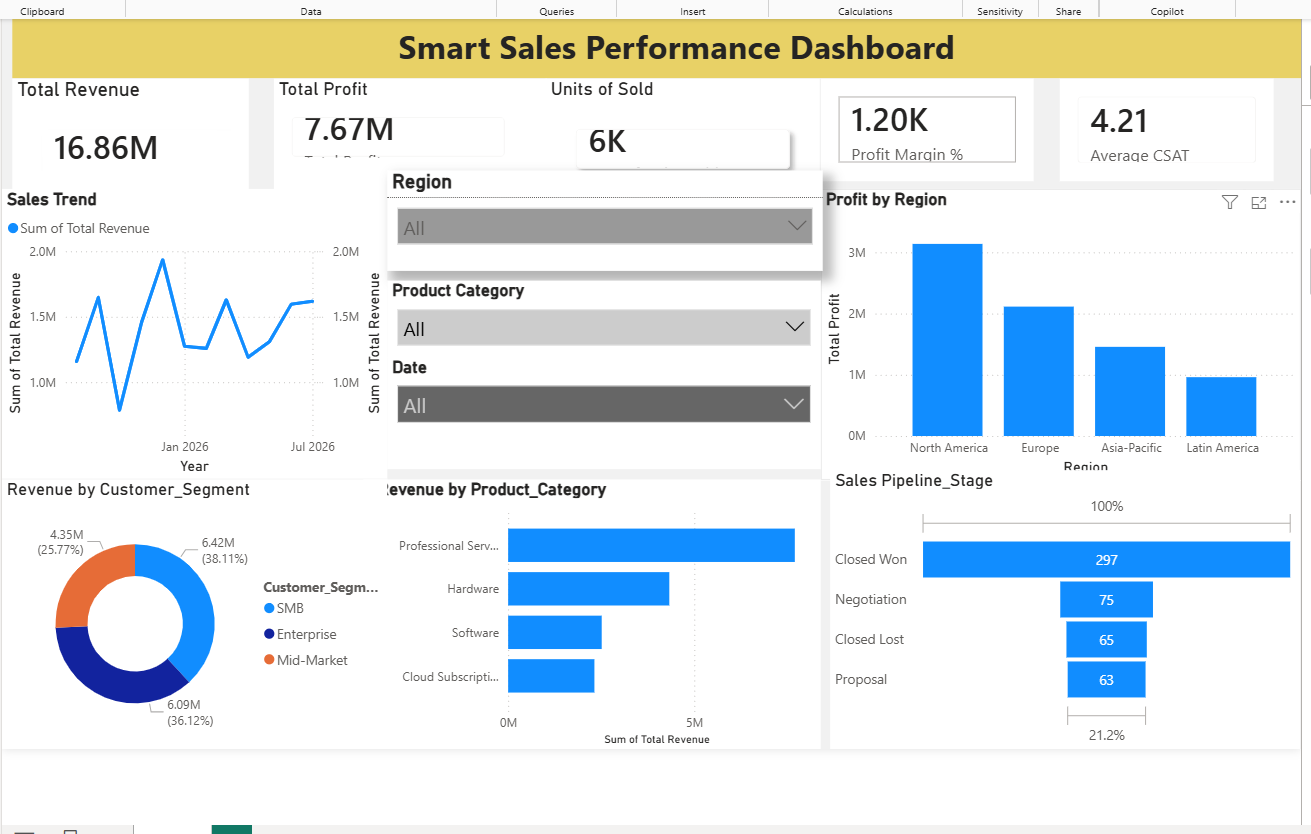

This screenshot's page, from the dashboard's own definition file:
{"tool":"powerbi","page":{"name":"Page 1","canvas":[1280,720],"ordinal":0},"visuals":[{"type":"textbox","title":"Smart Sales Performance Dashboard","box":[10.2,0,1269.6,58.4],"z":0},{"type":"cardVisual","title":"Total Revenue","fields":{"Data":["Sum(smart_sales_performance_dataset (1).Total Revenue)"]},"box":[10.1,58.9,233.4,108.6],"z":1000},{"type":"cardVisual","title":"Total Profit","fields":{"Data":["smart_sales_performance_dataset (1).Total Profit"]},"box":[267.9,58.9,269,117.7],"z":2000},{"type":"cardVisual","title":"Units of Sold","fields":{"Data":["Sum(smart_sales_performance_dataset (1).Units_Sold)"]},"box":[535.9,58.9,270,117.7],"z":3000},{"type":"cardVisual","fields":{"Data":["smart_sales_performance_dataset (1).Profit Margin %"]},"box":[806.5,58.4,209.2,101],"z":4000},{"type":"cardVisual","fields":{"Data":["smart_sales_performance_dataset (1).Average CSAT"]},"box":[1042.6,58.4,210.5,101],"z":5000},{"type":"lineChart","title":"Sales Trend","fields":{"Category":["smart_sales_performance_dataset (1).Date.Variation.Date Hierarchy.Year","smart_sales_performance_dataset (1).Date.Variation.Date Hierarchy.Month"],"Y":["Sum(smart_sales_performance_dataset (1).Total Revenue)"],"Y2":["Sum(smart_sales_performance_dataset (1).Total Revenue)"]},"box":[0,167.9,379.6,285.9],"z":6000},{"type":"barChart","title":"l Revenue by Product_Category","fields":{"Category":["smart_sales_performance_dataset (1).Product_Category"],"Y":["Sum(smart_sales_performance_dataset (1).Total Revenue)"]},"box":[356.4,453.8,450.1,266.4],"z":7000},{"type":"clusteredColumnChart","title":" Profit by Region","fields":{"Category":["smart_sales_performance_dataset (1).Region"],"Y":["smart_sales_performance_dataset (1).Total Profit"]},"box":[806.5,167.9,473.2,287.1],"z":8000},{"type":"donutChart","title":"Revenue by Customer_Segment","fields":{"Category":["smart_sales_performance_dataset (1).Customer_Segment"],"Y":["Sum(smart_sales_performance_dataset (1).Total Revenue)"]},"box":[0,453.8,379.6,266.4],"z":9000},{"type":"funnel","title":"Sales Pipeline_Stage","fields":{"Category":["smart_sales_performance_dataset (1).Pipeline_Stage"],"Y":["CountNonNull(smart_sales_performance_dataset (1).Order_ID)"]},"box":[816.3,444,463.5,276.1],"z":10000},{"type":"slicer","title":"Region","fields":{"Values":["smart_sales_performance_dataset (1).Region"]},"box":[379.6,149.2,429.3,99.5],"z":11000},{"type":"slicer","title":"Product Category","fields":{"Values":["smart_sales_performance_dataset (1).Product_Category"]},"box":[379.6,257.9,427,75.4],"z":12000},{"type":"slicer","title":"Date","fields":{"Values":["smart_sales_performance_dataset (1).Date"]},"box":[379.6,333.3,427,110.7],"z":13000}]}

Visuals, with their boxes on the page's 1280x720 design canvas (x1, y1, x2, y2). These are canvas units, not pixel positions in the 1311x834 screenshot, which may show the page scaled, cropped or inside an application window:
"Smart Sales Performance Dashboard" textbox: detection(10, 0, 1280, 58)
"Total Revenue" cardVisual: detection(10, 59, 244, 168)
"Total Profit" cardVisual: detection(268, 59, 537, 177)
"Units of Sold" cardVisual: detection(536, 59, 806, 177)
cardVisual - smart_sales_performance_dataset (1).Profit Margin %: detection(806, 58, 1016, 159)
cardVisual - smart_sales_performance_dataset (1).Average CSAT: detection(1043, 58, 1253, 159)
"Sales Trend" lineChart: detection(0, 168, 380, 454)
"l Revenue by Product_Category" barChart: detection(356, 454, 806, 720)
" Profit by Region" clusteredColumnChart: detection(806, 168, 1280, 455)
"Revenue by Customer_Segment" donutChart: detection(0, 454, 380, 720)
"Sales Pipeline_Stage" funnel: detection(816, 444, 1280, 720)
"Region" slicer: detection(380, 149, 809, 249)
"Product Category" slicer: detection(380, 258, 807, 333)
"Date" slicer: detection(380, 333, 807, 444)
